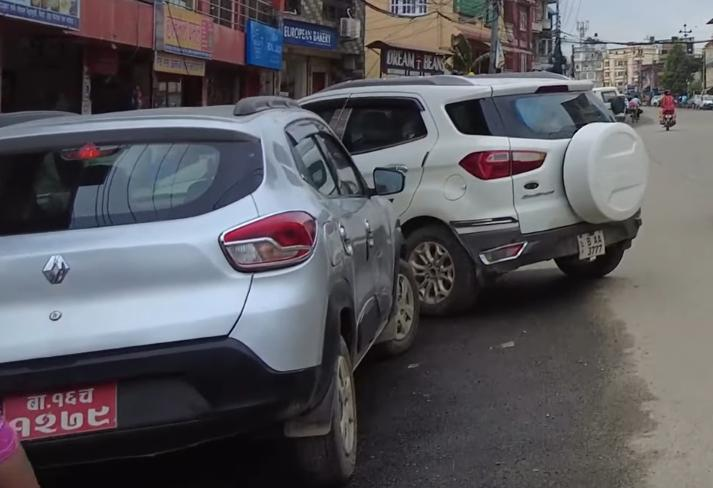car: (6, 89, 418, 488), (289, 69, 649, 318)
